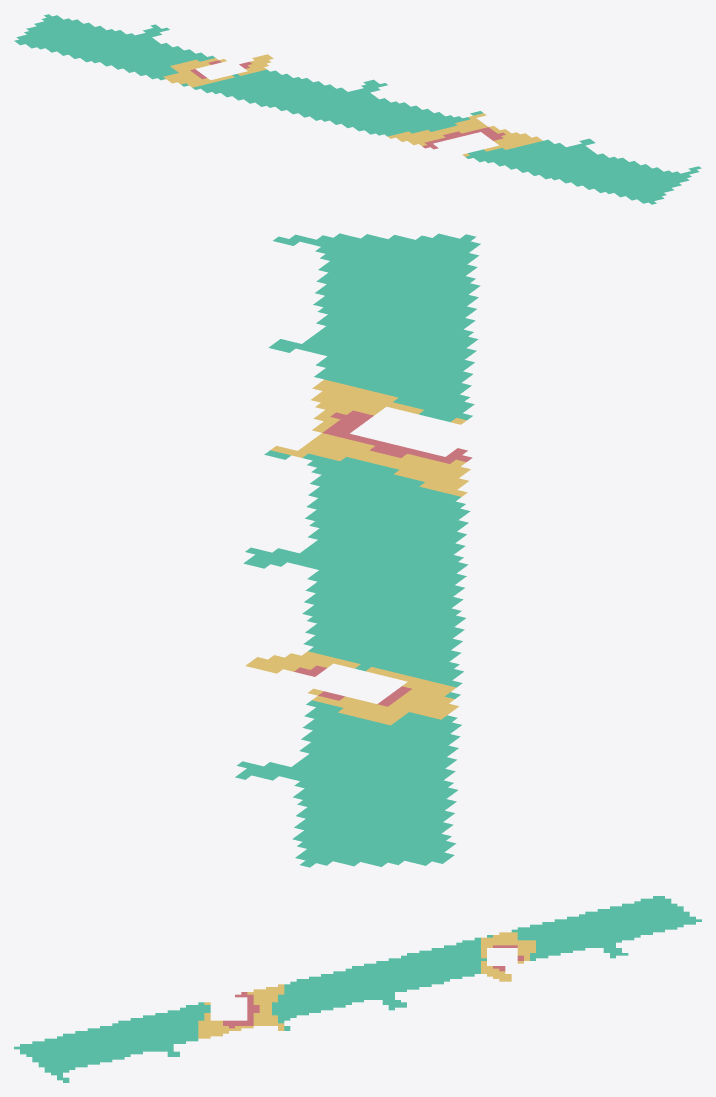
The model's file is 02_Esposizione_F_3D.glb.
The picture shows the model from 3 angles, top to bottom: view 1: azimuth 30°, elevation 25°; view 2: azimuth 150°, elevation 25°; view 3: azimuth 270°, elevation 25°; orthographic projection. The views are drawn at different scales.
Parts seen in each view (by area): view 1: Elemento_2, Elemento_1, Elemento_0; view 2: Elemento_2, Elemento_1, Elemento_0; view 3: Elemento_2, Elemento_1, Elemento_0.
Boxes of the visible parts, left/top/right/bottom form: Elemento_2: left=14, top=14, right=701, bottom=204; Elemento_1: left=163, top=54, right=542, bottom=156; Elemento_0: left=190, top=60, right=505, bottom=149; Elemento_2: left=235, top=233, right=480, bottom=867; Elemento_1: left=245, top=379, right=470, bottom=725; Elemento_0: left=294, top=410, right=472, bottom=706; Elemento_2: left=14, top=896, right=701, bottom=1082; Elemento_1: left=198, top=932, right=535, bottom=1038; Elemento_0: left=223, top=945, right=523, bottom=1028.
Size of the model in its own units: 144 by 0 by 224.
